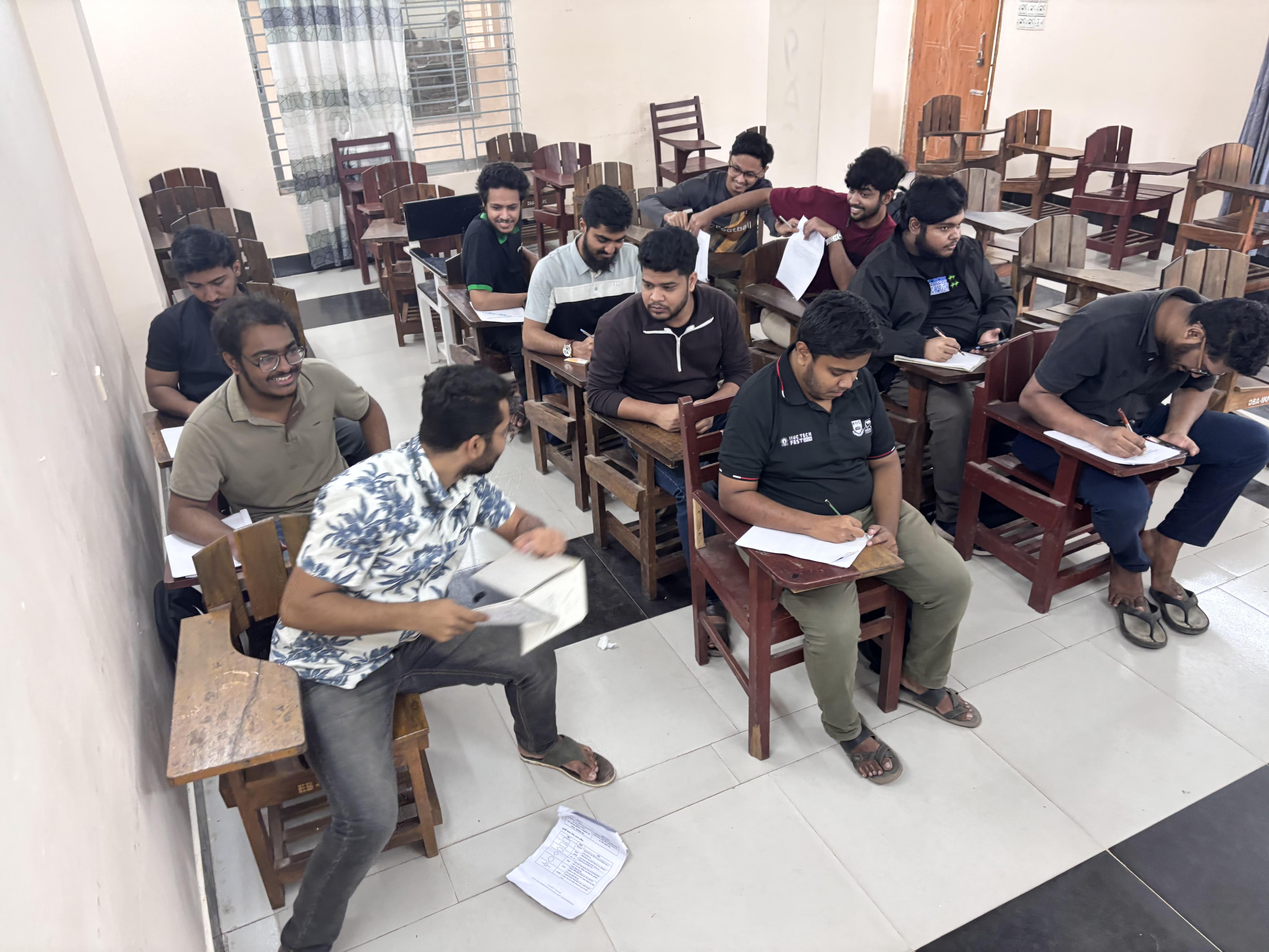copying: (599, 228, 729, 474)
exchanging_sheets: (285, 361, 643, 914), (656, 124, 904, 274)
no_cheating: (728, 290, 923, 656), (548, 176, 636, 387), (146, 222, 244, 393), (457, 160, 540, 328)
side_talking: (164, 300, 353, 546)
using_phone: (1026, 272, 1269, 556), (883, 172, 1025, 392)
